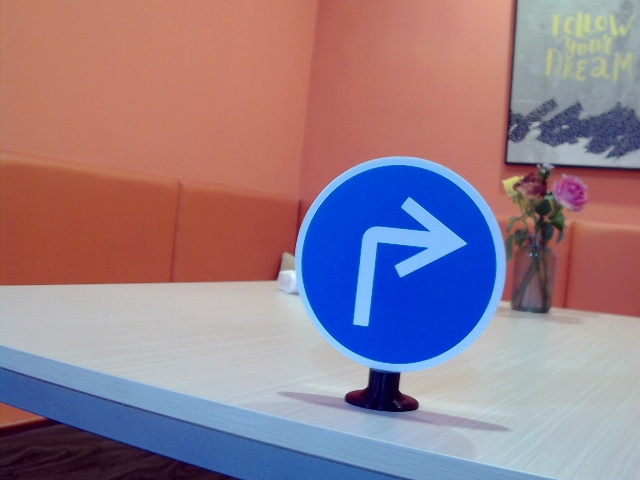turn_right: (336, 197, 467, 331)
